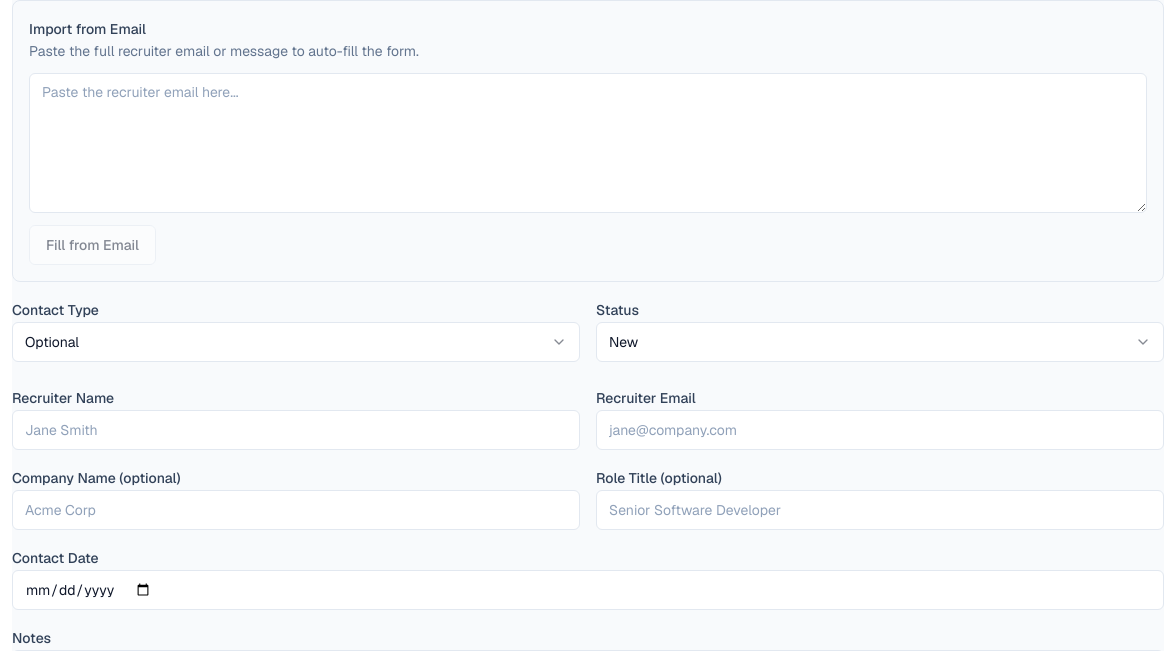
OpportunityForm › fills the form from pasted recruiter email
Type "From: Jane Smith <jane@acme.com>" into the text box labelled "Import from Email". click: (588, 143)
box: [29,73,1147,213]
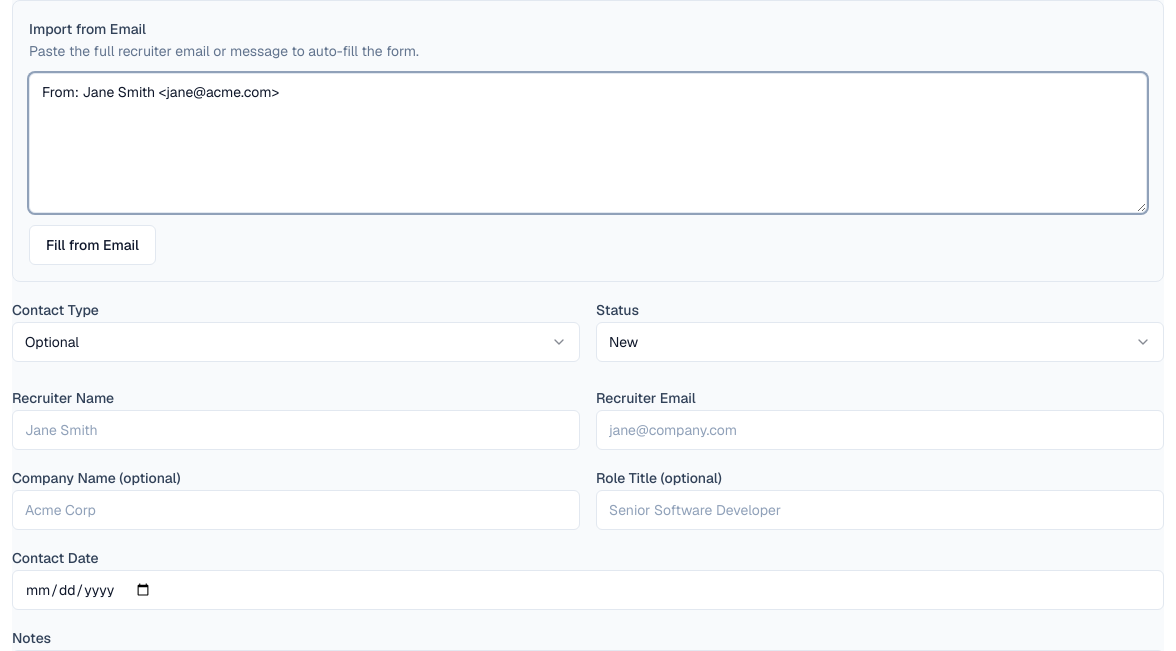
Click the button "Fill from Email". click: (92, 245)
box: [29,225,156,265]
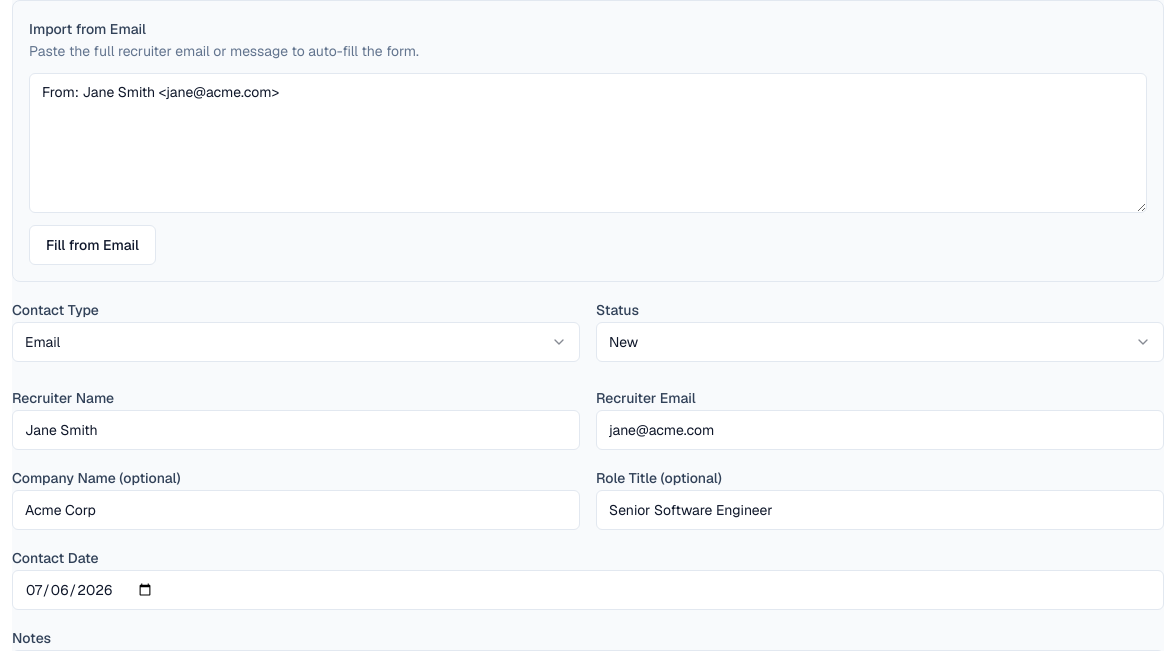
Expected: the field labelled "Recruiter Name" holds "Jane Smith", [12,410,580,450]
Expected: the field labelled "Recruiter Email" holds "jane@acme.com", [596,410,1164,450]
Expected: the field labelled "Company Name (optional)" holds "Acme Corp", [12,490,580,530]
